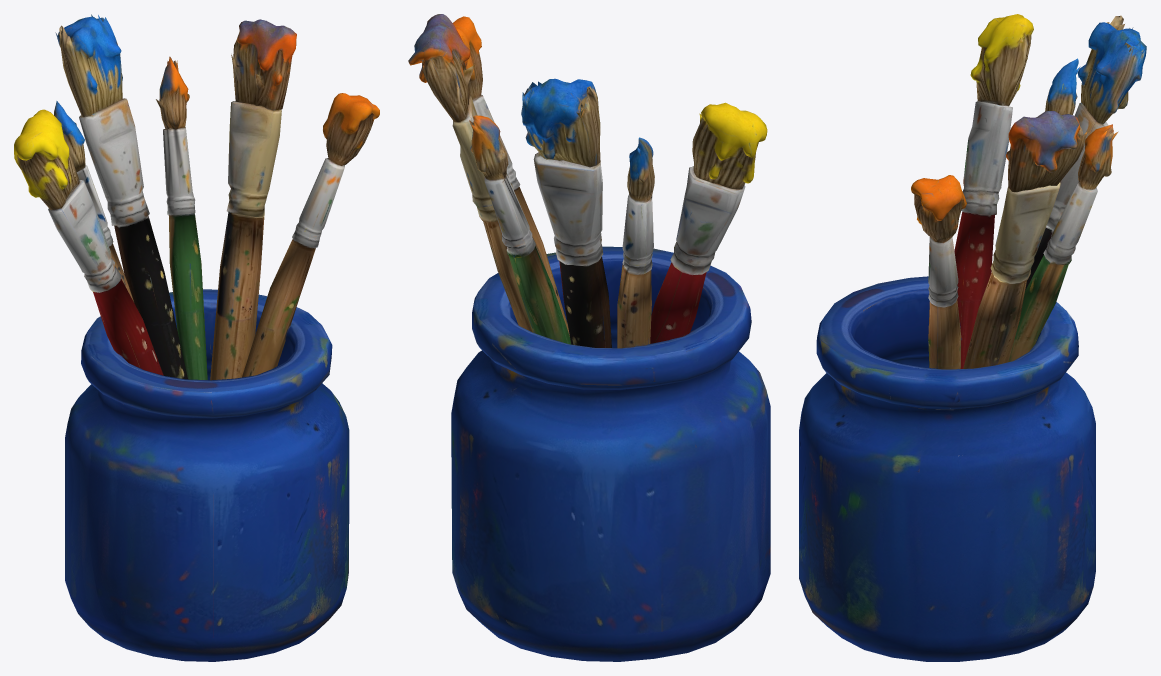
File: brush_jar.glb
3 views of the same model, side by side, from view 1: azimuth 30°, elevation 25°; view 2: azimuth 150°, elevation 25°; view 3: azimuth 270°, elevation 25° (orthographic). The views are drawn at different scales.
Size of the model in its own units: 0.5967 by 0.9521 by 0.5268.
Materials: 1 (1 with a texture image).
